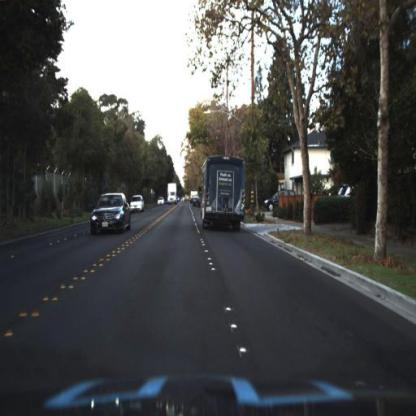car: (91, 191, 133, 237), (129, 194, 148, 215)
truck: (196, 153, 248, 233)
